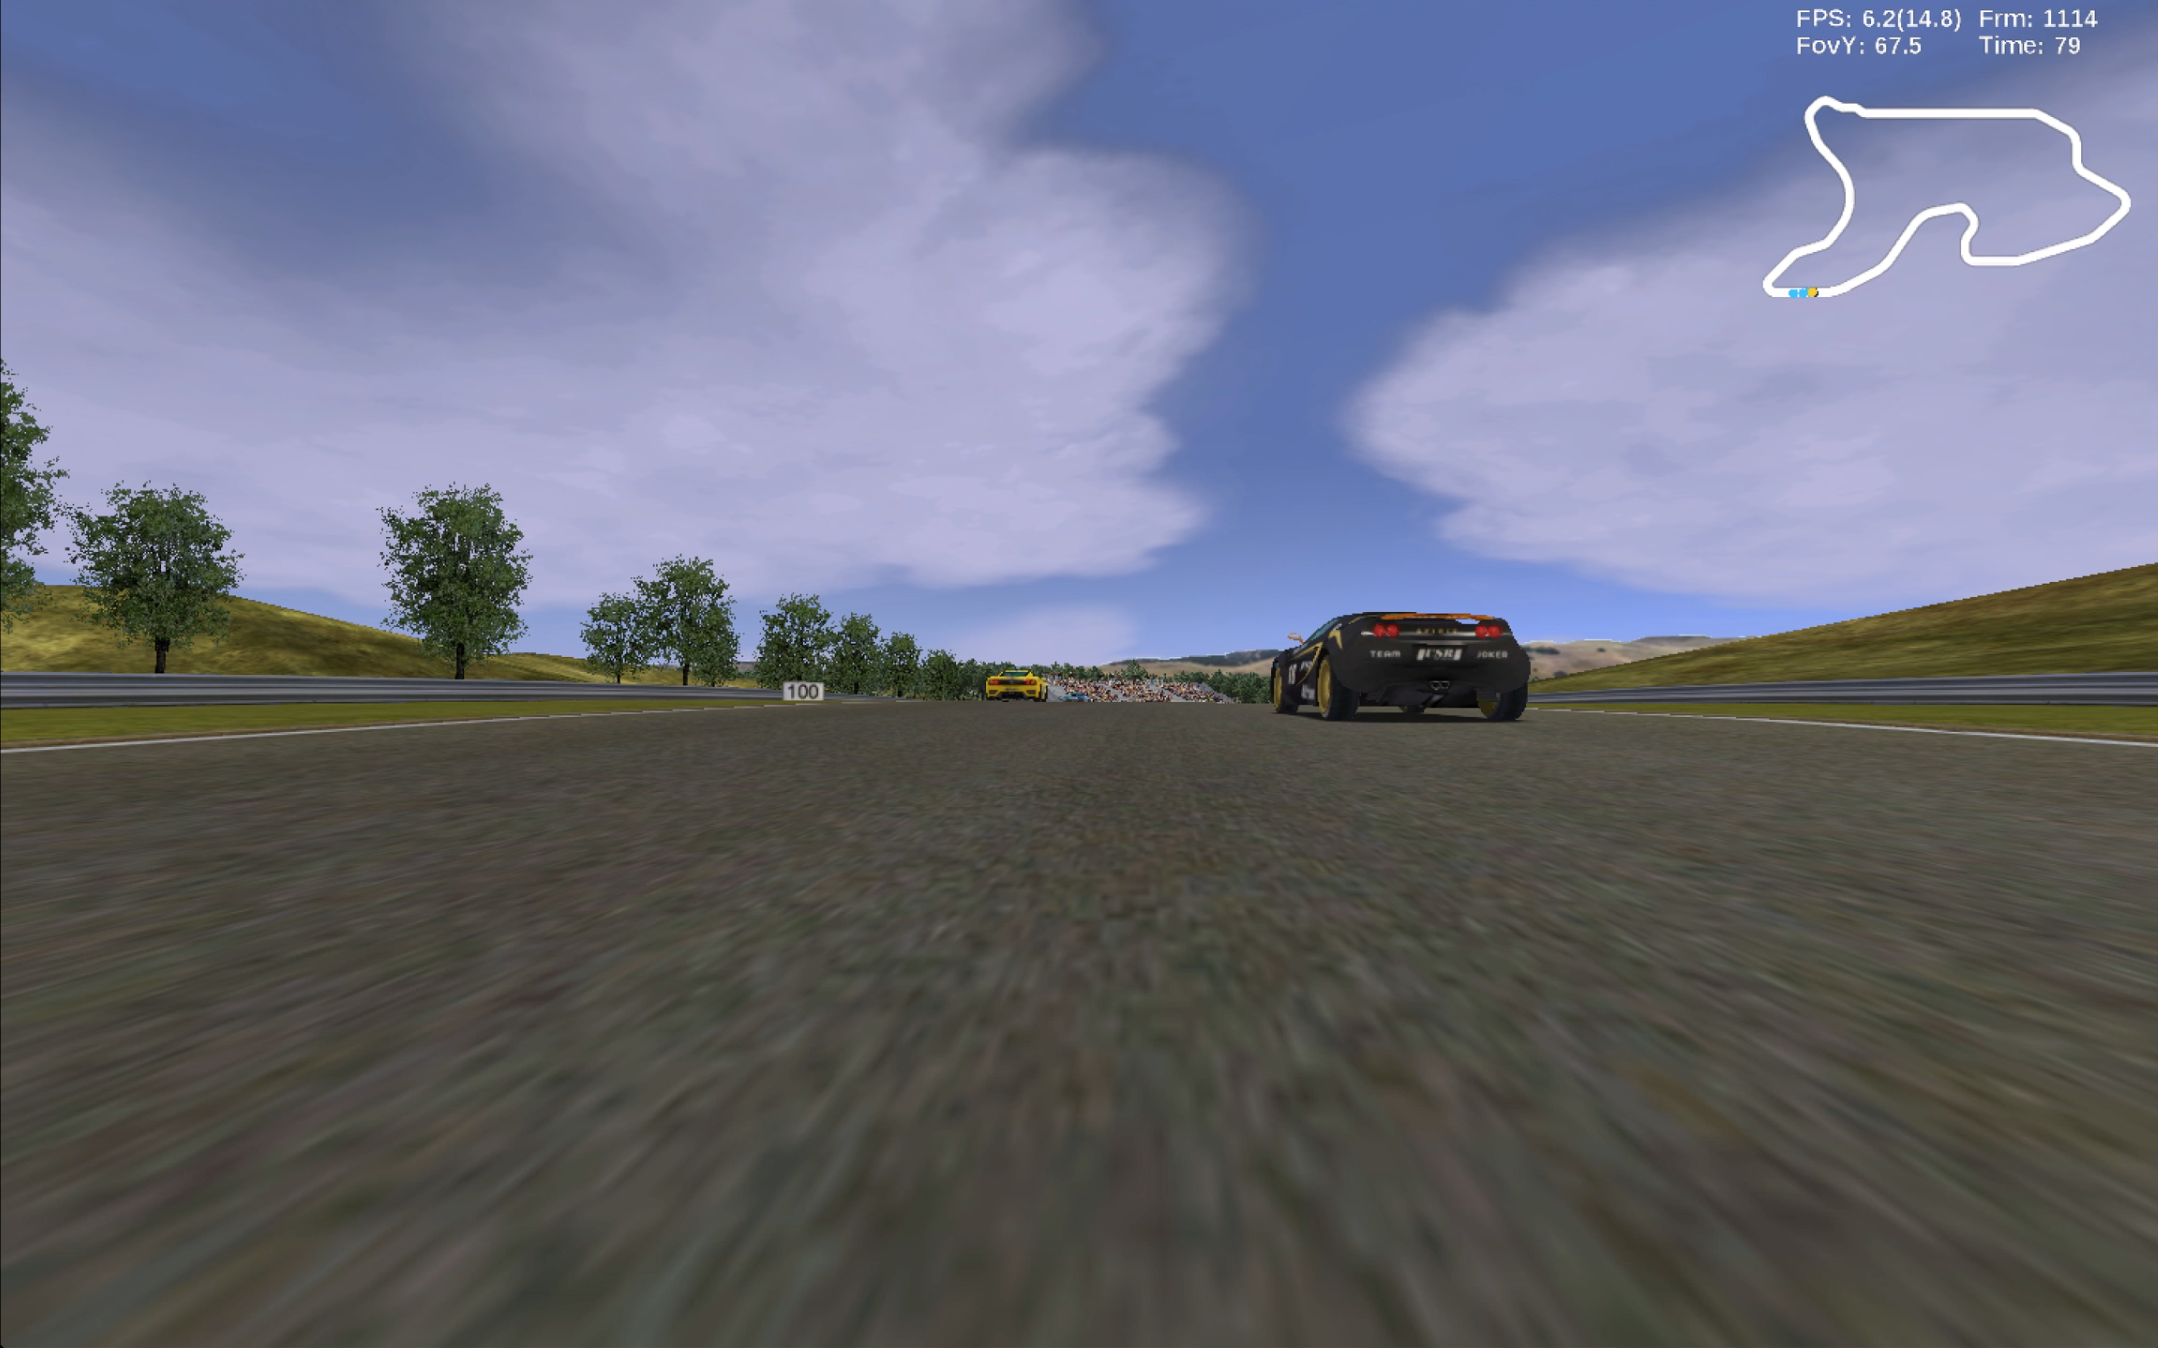Cavallo360: (983, 669, 1053, 705)
Spirit300: (1267, 609, 1529, 722)
